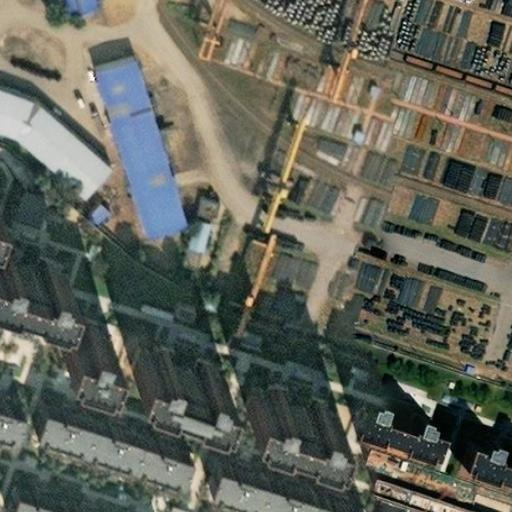building: (82, 35, 175, 224), (20, 402, 182, 482), (189, 457, 354, 512), (123, 336, 222, 398), (336, 407, 435, 468), (234, 373, 333, 434), (233, 231, 279, 305), (70, 366, 130, 417), (45, 314, 97, 361), (459, 451, 512, 497), (0, 251, 52, 296), (184, 215, 213, 254), (4, 183, 35, 215), (83, 197, 114, 228), (192, 192, 221, 221)
